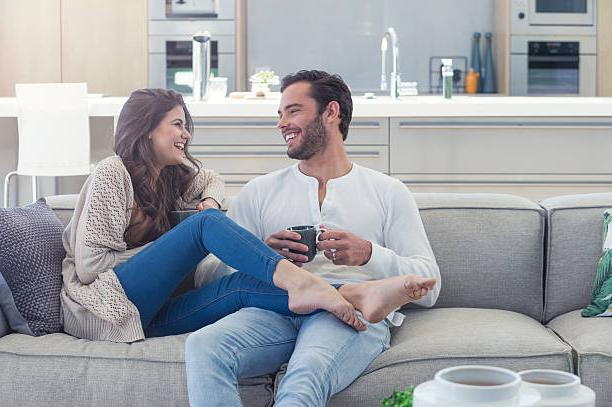long sleeve shirt: (192, 160, 443, 331)
sweater: (58, 150, 227, 346)
trousers: (111, 209, 342, 338), (185, 303, 394, 407)
